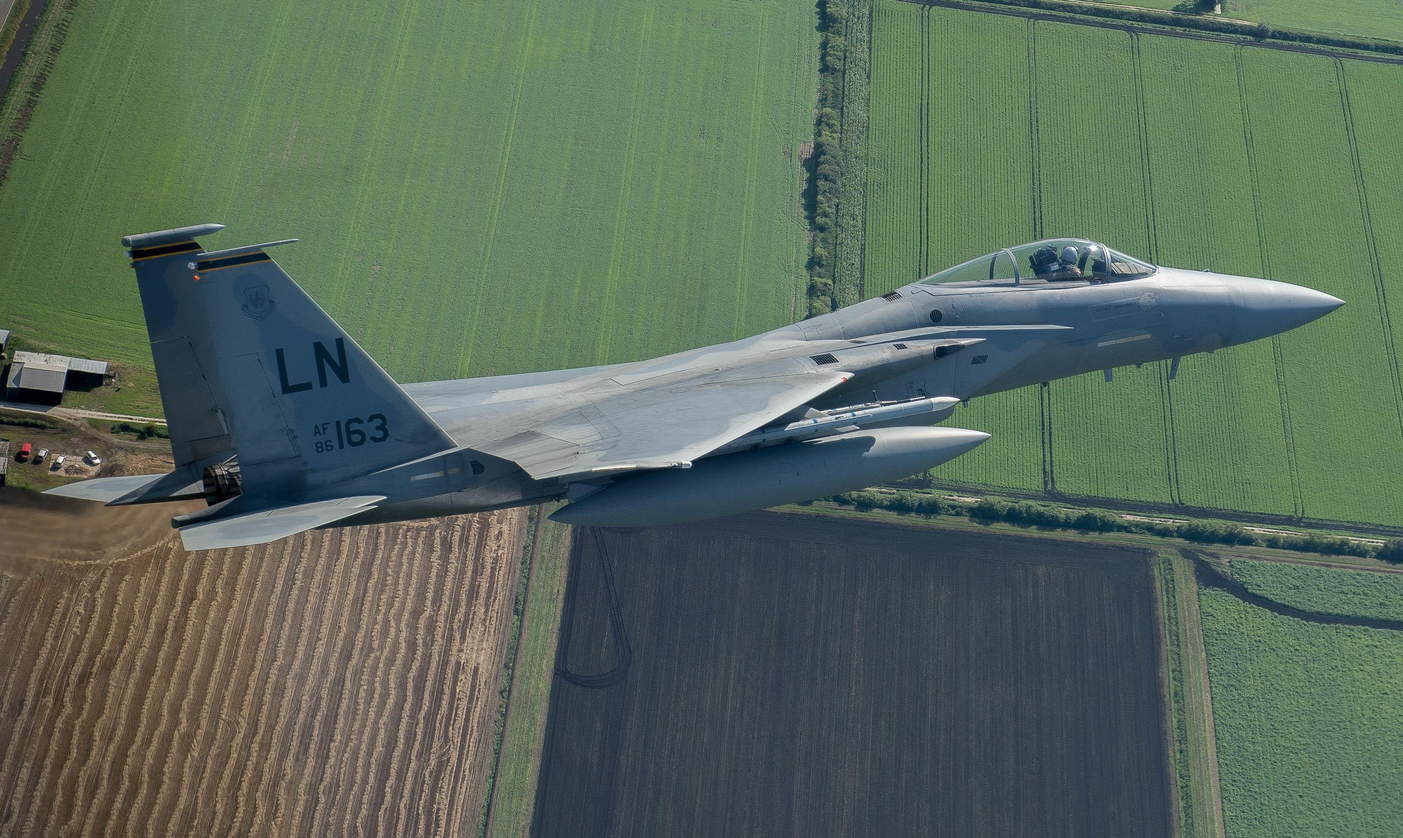aircraft: (98, 224, 1352, 562)
